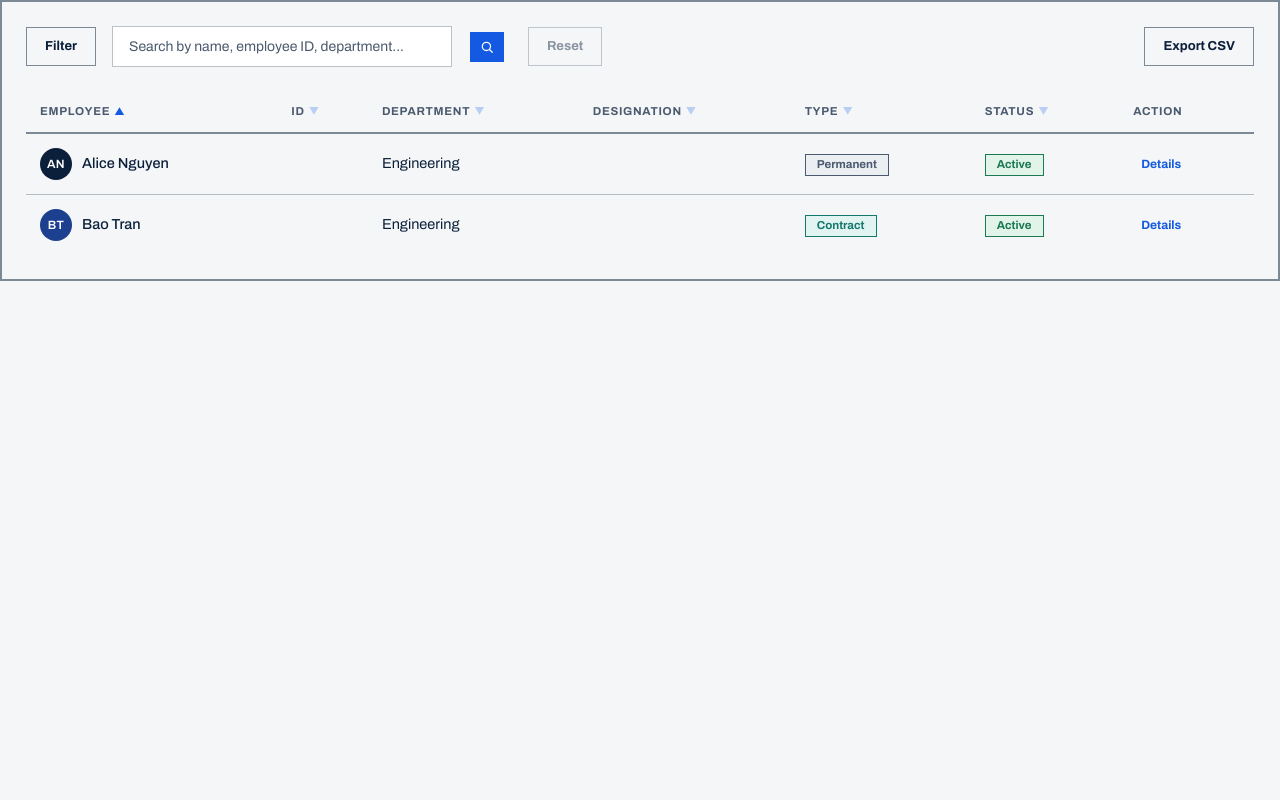
Test: AllEmployees — salary visibility in the side panel › hides salary from a plain EMPLOYEE on a colleague's card
The width and height of the screenshot is (1280, 800).
Click the text "Alice Nguyen" at (125, 164), box [82,153,169,175]
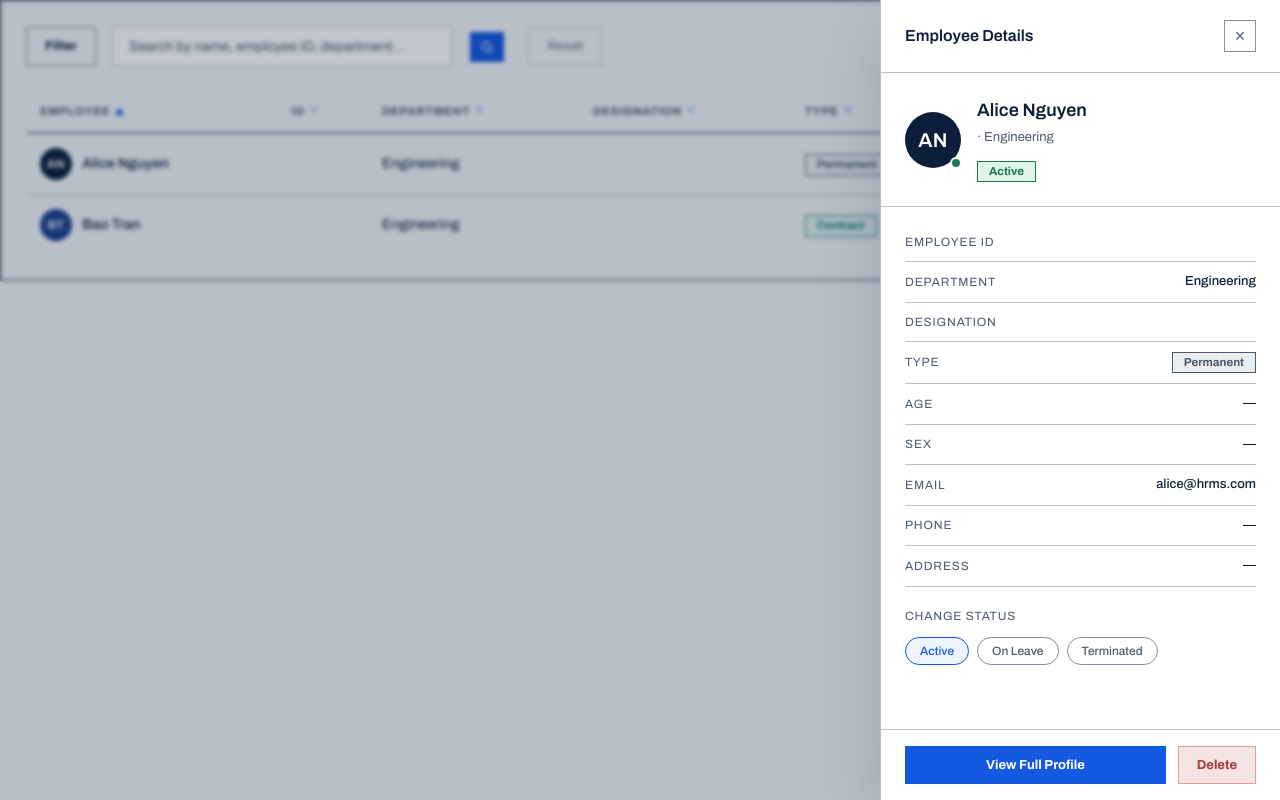
Check: the text "Email" is shown, box [905,476,945,494]
